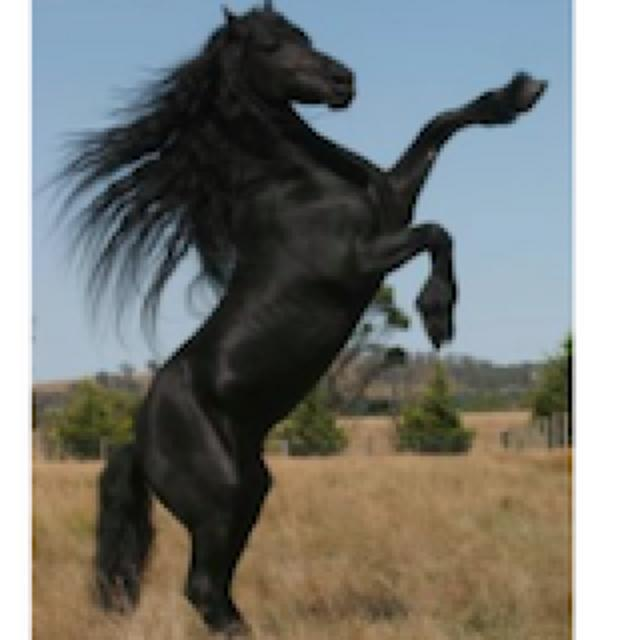Horse: (44, 0, 552, 636)
